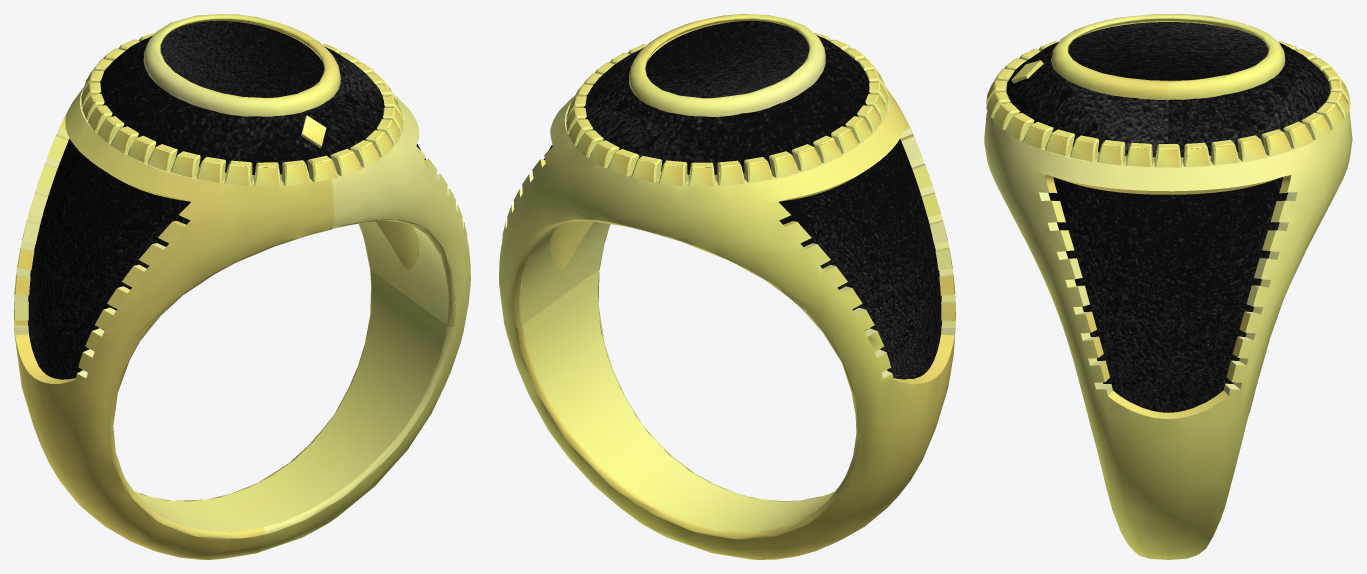
Rendered from ring11.glb.
3 renders of one model, left to right at view 1: azimuth 30°, elevation 25°; view 2: azimuth 150°, elevation 25°; view 3: azimuth 270°, elevation 25°, orthographic.
Visible parts, largest first — view 1: body, black, core1; view 2: body, black, core1; view 3: body, black, core1.
Part boxes in pixels (x1,y1,x2,y2): body: (14,14,470,559); black: (28,35,425,379); core1: (160,20,323,97); body: (499,14,955,559); black: (543,35,941,379); core1: (645,21,809,98); body: (984,14,1352,559); black: (1006,42,1330,412); core1: (1068,22,1268,80).
Size of the model in its own units: 27.91 by 31.38 by 21.4.
2 materials, 2 textured.
